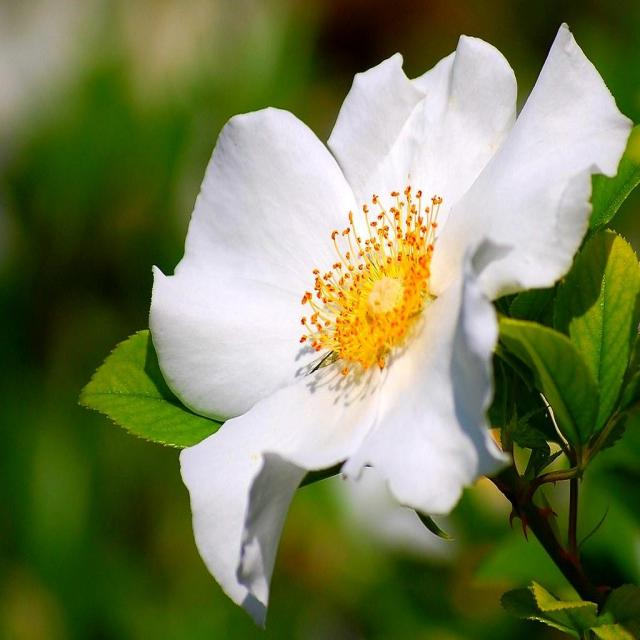organic waste: (125, 44, 624, 575)
